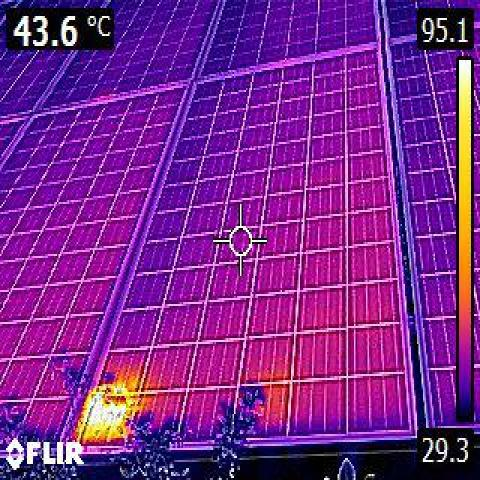fault: (92, 396, 128, 439)
